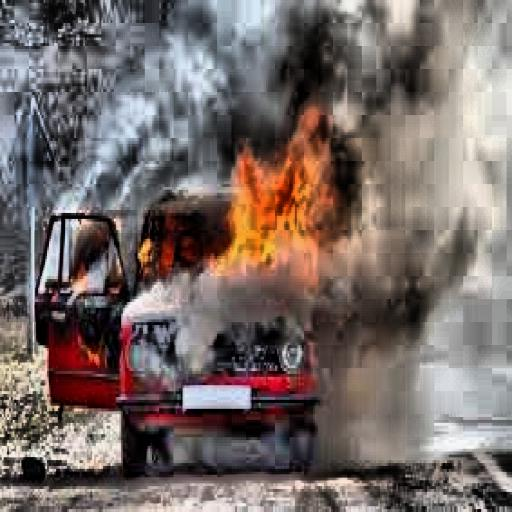fire: (224, 112, 355, 282), (130, 144, 252, 319), (45, 184, 138, 363)
